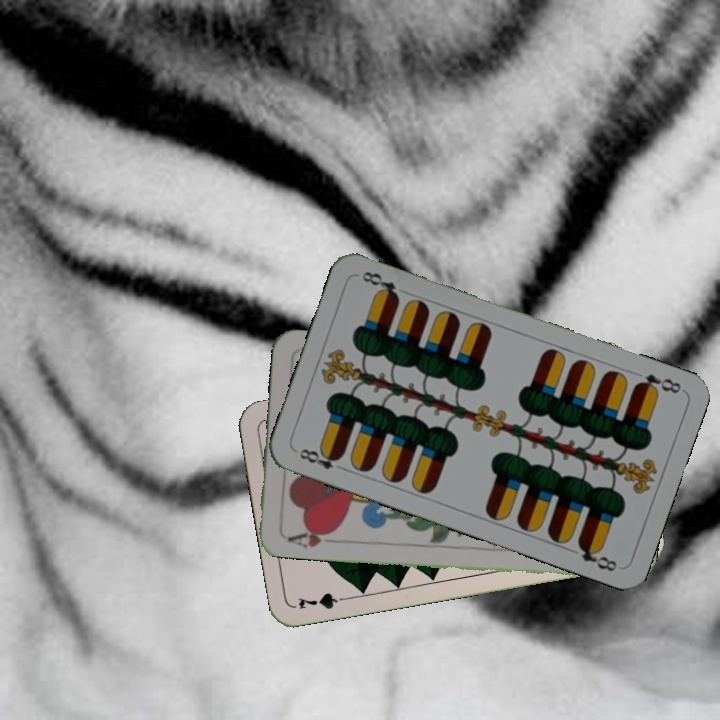E8: (295, 444, 349, 474), (631, 369, 684, 397)
G7: (294, 589, 353, 612)
HA: (283, 524, 341, 551)
